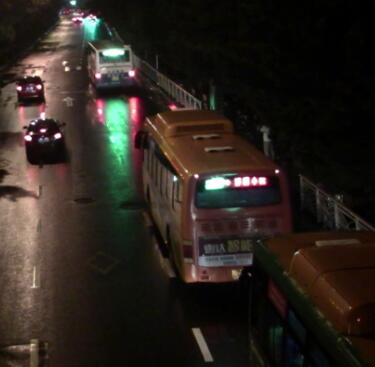bus: (135, 109, 291, 289), (240, 227, 372, 361), (84, 37, 136, 93)
car: (22, 117, 67, 156), (15, 73, 44, 102)
